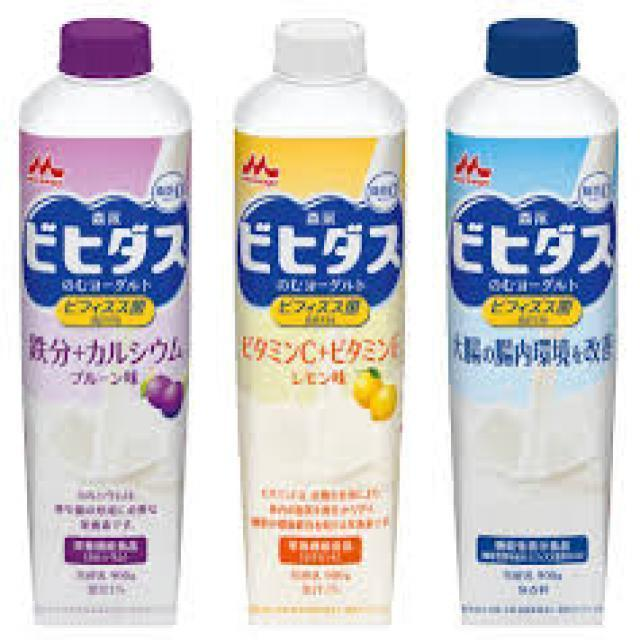Plastic: (441, 12, 624, 616), (15, 13, 196, 622), (234, 12, 406, 625)
